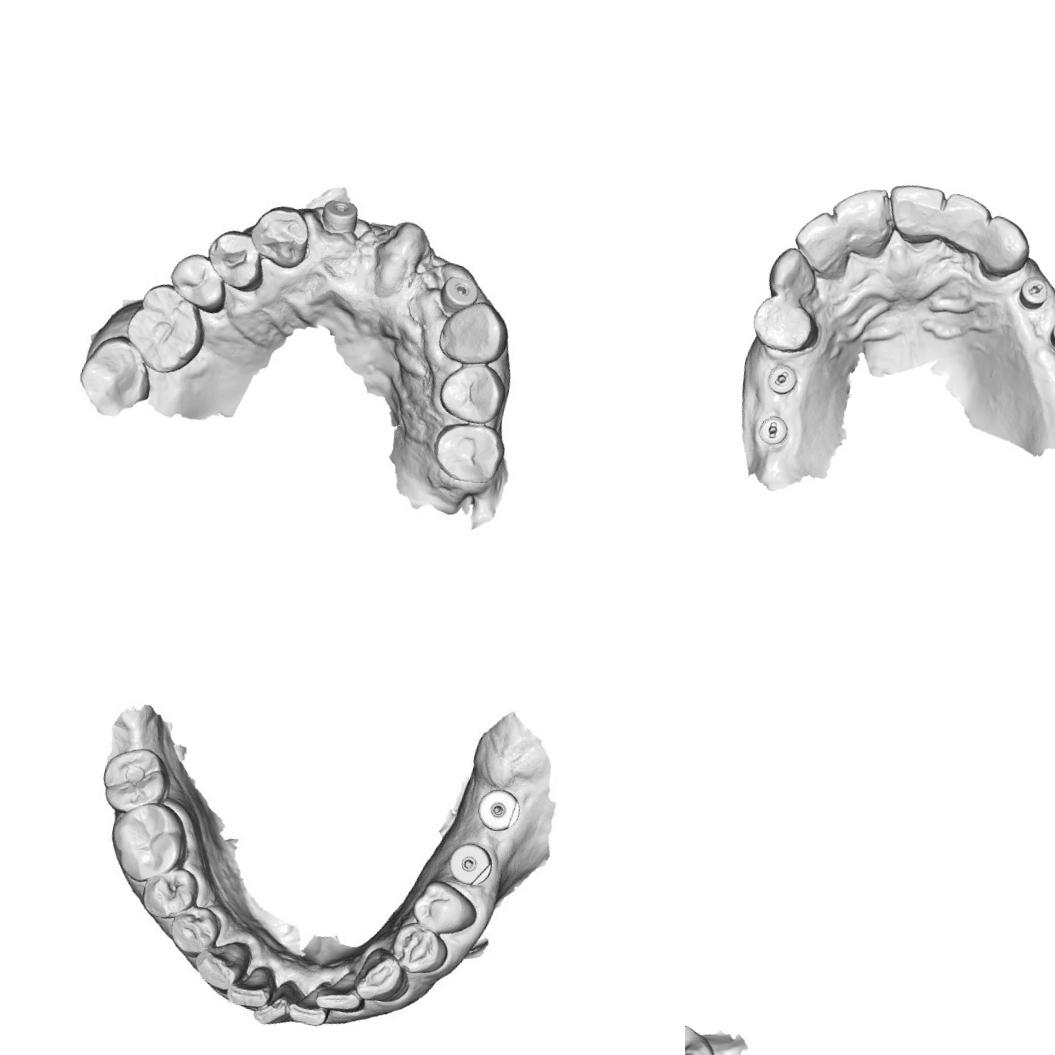canine: (432, 291, 514, 372), (242, 196, 318, 274), (975, 212, 1035, 282), (190, 931, 253, 994), (764, 242, 824, 303), (355, 951, 416, 1011)
implant: (442, 838, 500, 896), (472, 784, 524, 840), (314, 190, 364, 244), (436, 267, 478, 314)
implant_minus: (1015, 272, 1052, 311), (764, 359, 800, 398), (755, 412, 791, 448), (1045, 314, 1055, 355)
incisor: (824, 179, 898, 262), (787, 204, 855, 280), (879, 178, 947, 248), (932, 190, 994, 256), (228, 964, 276, 1013), (255, 980, 300, 1031), (318, 974, 367, 1016), (288, 983, 330, 1030)
molar: (118, 276, 210, 380), (104, 797, 192, 890), (96, 742, 172, 813)
premolar: (423, 415, 510, 492), (433, 356, 509, 428), (746, 293, 825, 358), (203, 225, 265, 292), (165, 252, 231, 314), (413, 878, 476, 937), (138, 860, 198, 921), (387, 923, 447, 978), (168, 905, 222, 954)
